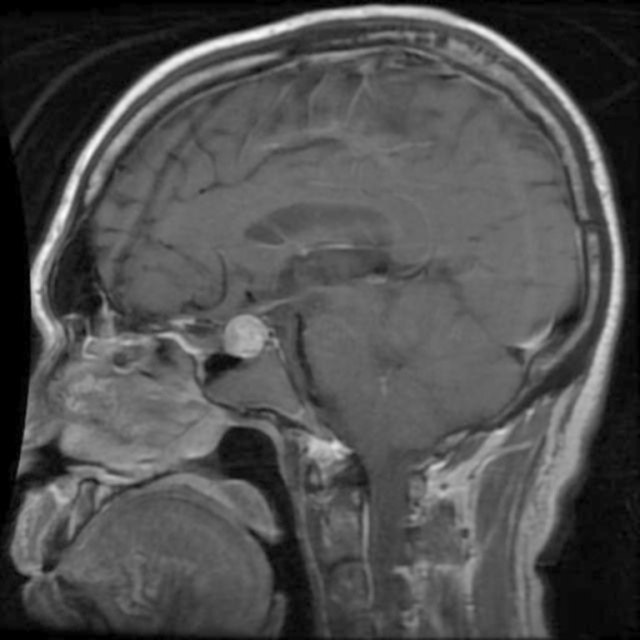no tumor: (215, 304, 273, 361)
